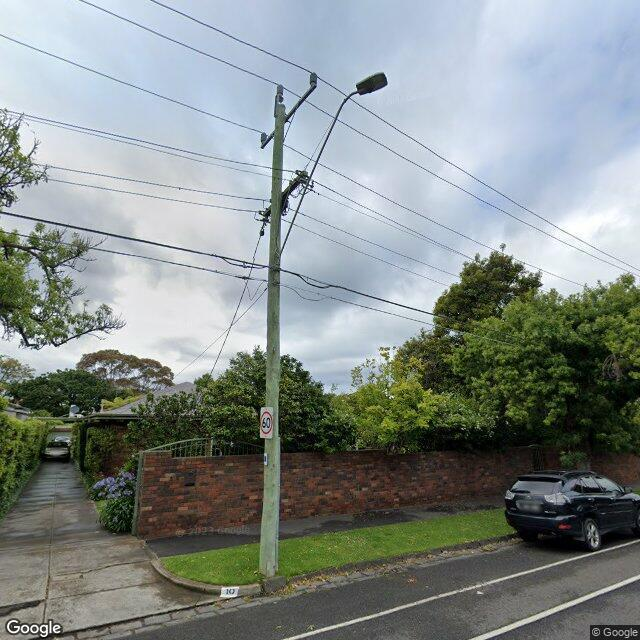HV-transmission: (260, 72, 318, 149)
crossarm: (259, 170, 315, 236), (261, 84, 317, 148)
streetlight: (277, 71, 389, 259)
timber-pole: (258, 103, 287, 577)
